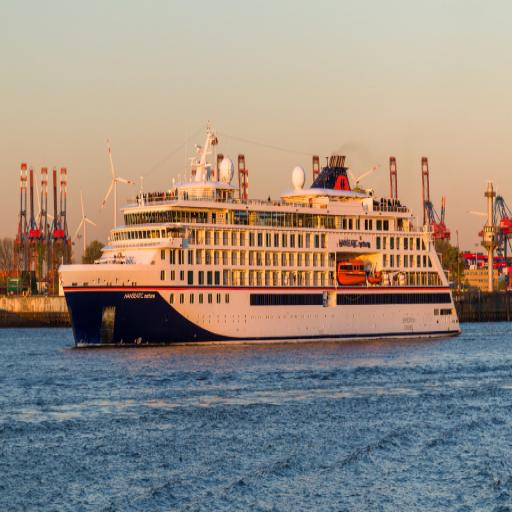cruises: (57, 118, 465, 354)
